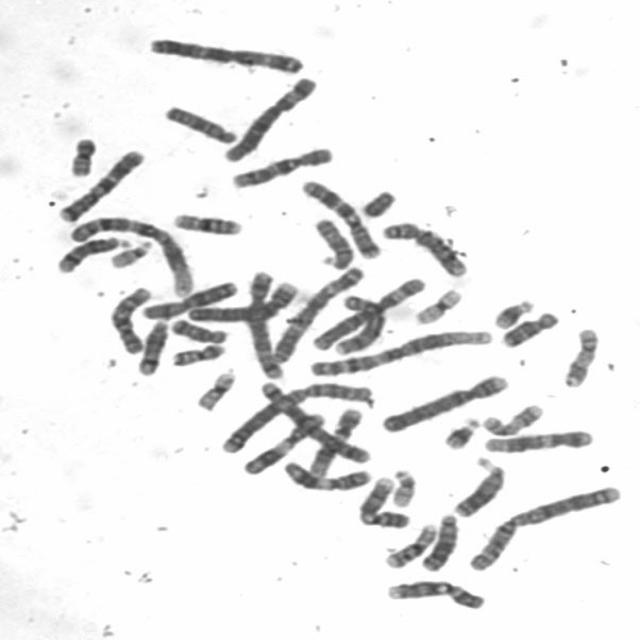A1: (62, 211, 198, 297), (303, 324, 495, 378)
A2: (462, 478, 626, 574), (232, 377, 376, 462)
A3: (266, 260, 368, 364), (142, 30, 308, 76)
B4: (377, 368, 512, 434), (181, 275, 301, 324)
B5: (252, 375, 375, 464), (239, 266, 287, 381)
C10: (226, 141, 337, 190), (102, 281, 154, 356)
C11: (238, 407, 329, 476), (279, 455, 375, 493)
C12: (303, 403, 367, 477), (478, 424, 598, 455)
C6: (306, 271, 430, 352), (218, 71, 322, 163)
C7: (53, 143, 150, 224), (295, 174, 385, 260)
C8: (375, 215, 471, 278), (330, 289, 387, 356)
C9: (381, 574, 489, 612), (353, 471, 414, 529)
D13: (448, 452, 509, 519), (414, 507, 462, 573)
D14: (51, 230, 134, 274), (131, 314, 172, 376)
D15: (158, 100, 242, 146), (308, 212, 358, 271)
E16: (379, 518, 441, 570), (167, 207, 247, 237)
E17: (557, 322, 603, 389), (477, 397, 548, 437)
E18: (496, 306, 564, 349), (164, 314, 230, 344)
F19: (409, 282, 467, 326), (190, 364, 240, 412)
F20: (166, 338, 228, 368), (63, 131, 100, 178)
G21: (488, 292, 538, 331), (438, 411, 484, 451)
G22: (104, 235, 156, 269), (386, 462, 420, 508)
X: (137, 275, 241, 321), (330, 289, 387, 356)
Y: (356, 184, 400, 219)
